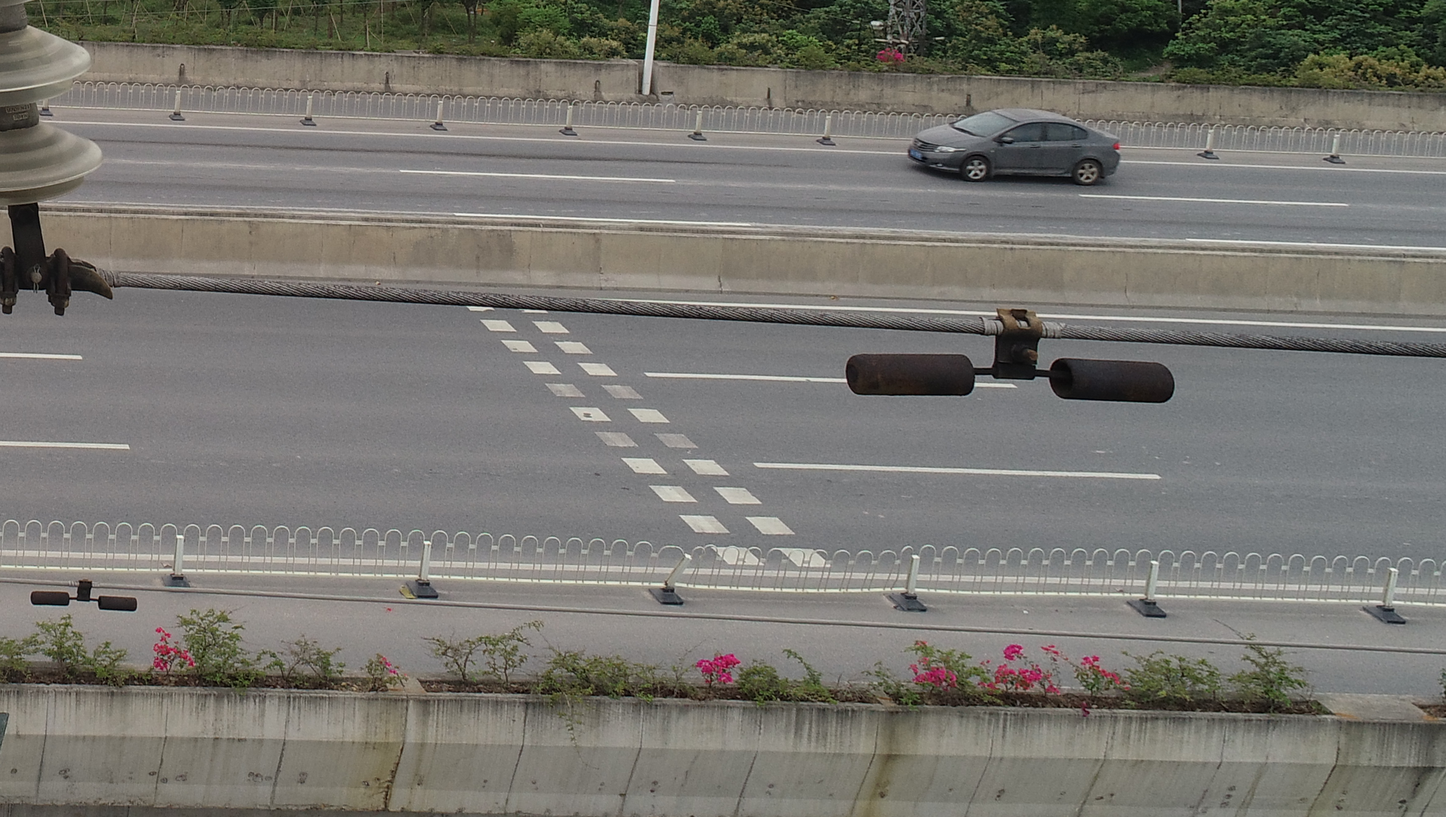damper: (838, 300, 1176, 405)
